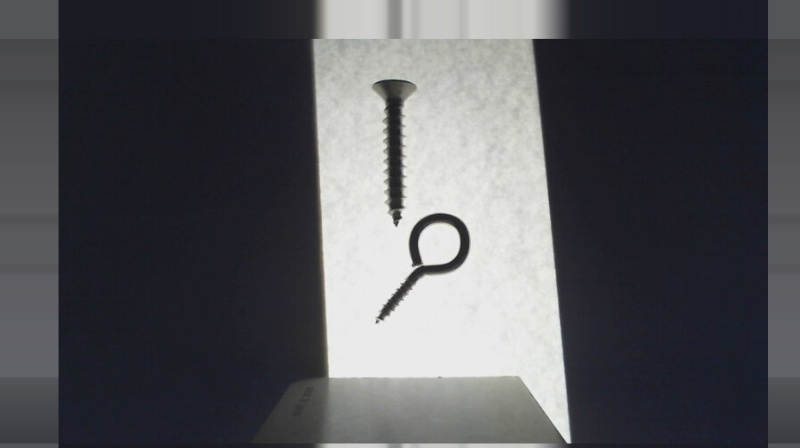O001: (373, 210, 470, 324)
S001: (371, 78, 417, 228)
